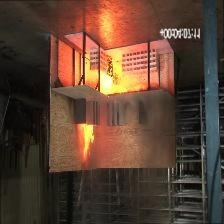fire: (86, 51, 143, 103), (73, 112, 109, 172)
